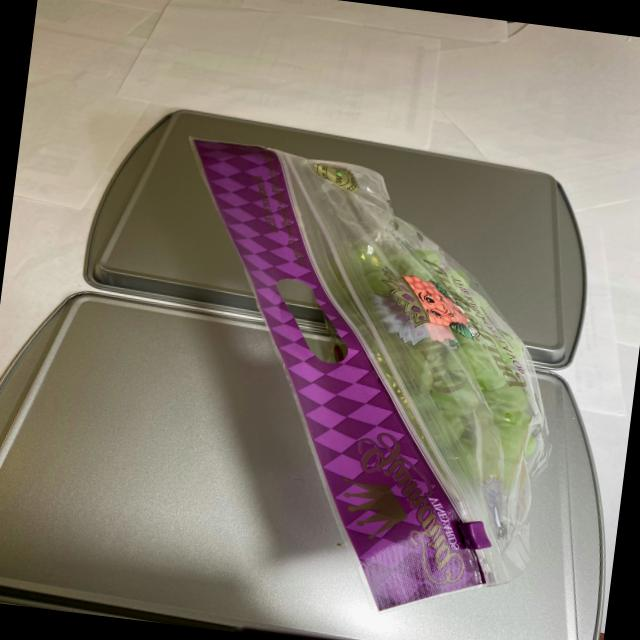grapes: (318, 210, 574, 500)
